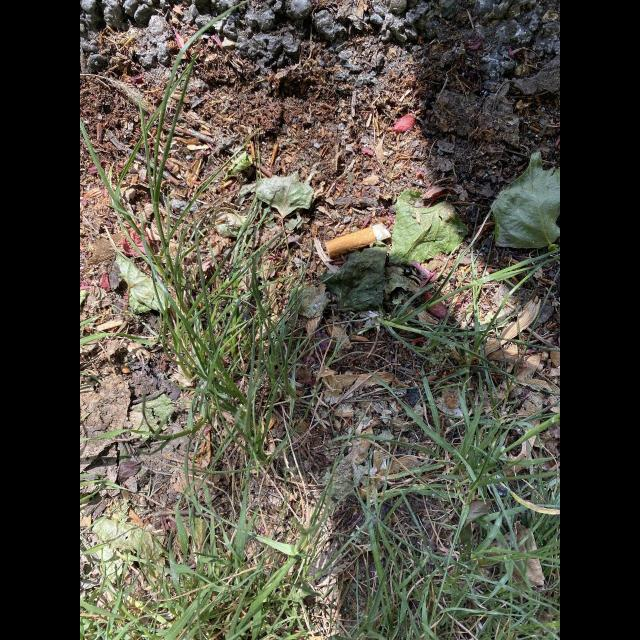cigarette: (324, 223, 392, 260)
